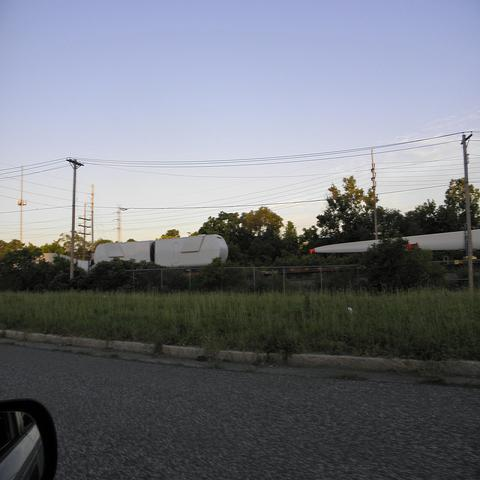car: (0, 398, 58, 479)
